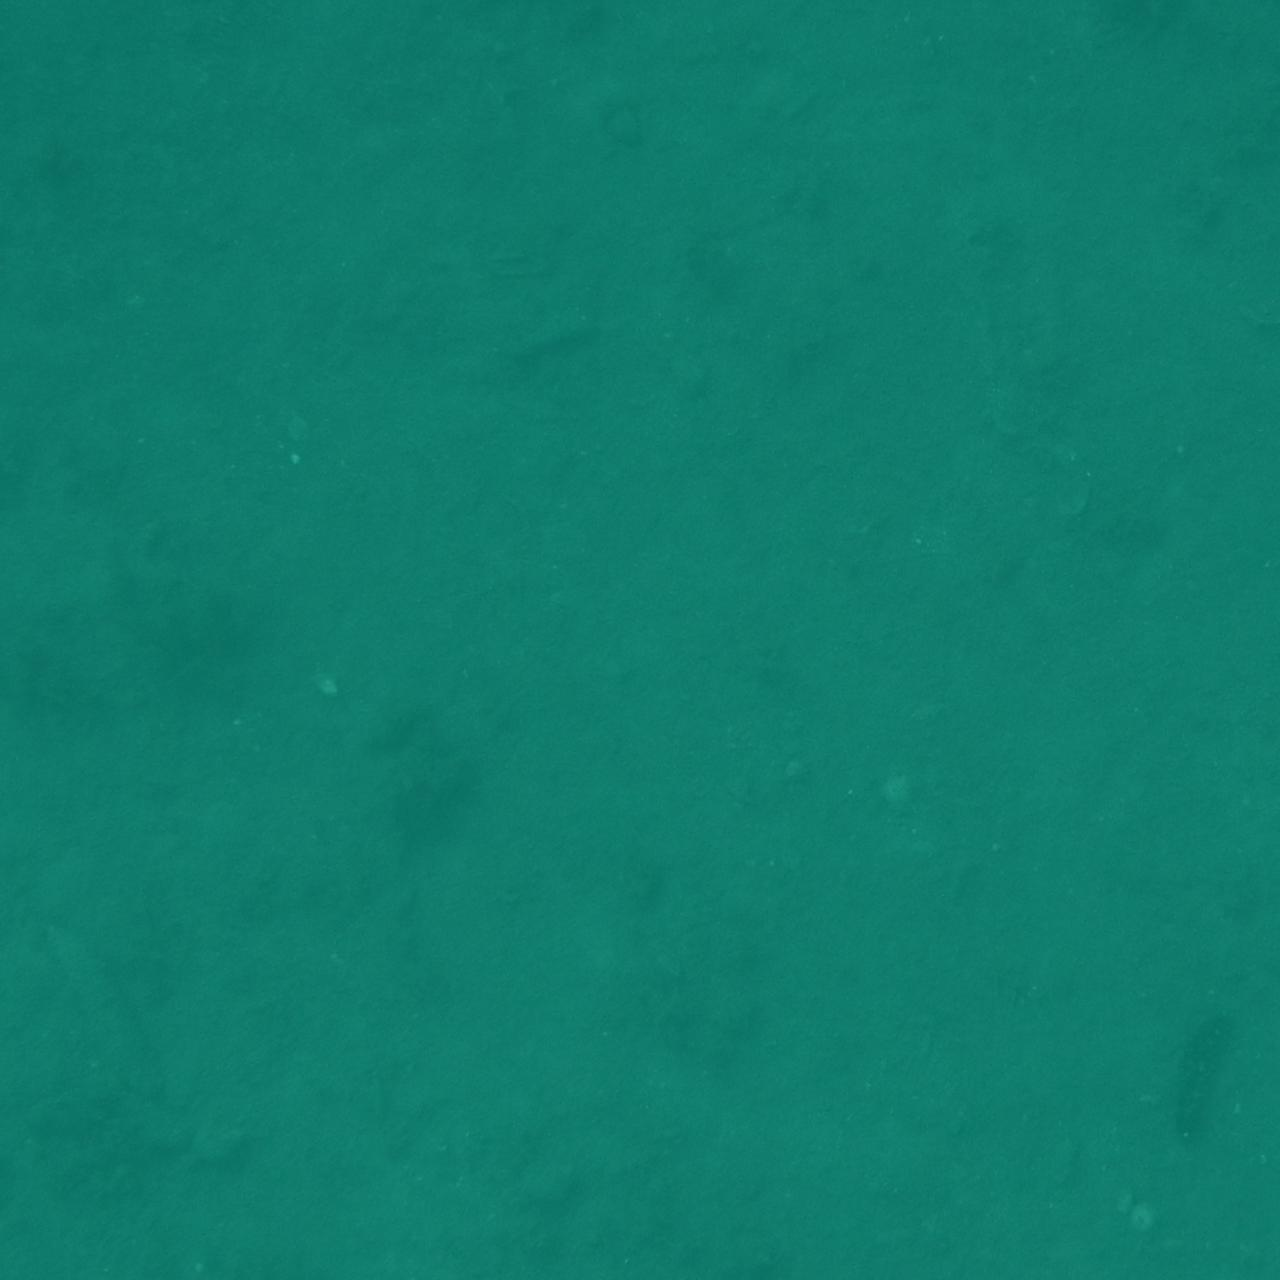Holothuria tubulosa: (42, 903, 259, 1201), (567, 1144, 775, 1280), (508, 1191, 804, 1280), (0, 212, 80, 463), (0, 478, 111, 658), (1167, 745, 1280, 918), (1148, 993, 1269, 1150), (607, 0, 819, 84), (1151, 321, 1280, 456), (949, 1159, 1090, 1280), (1141, 491, 1280, 607), (0, 1159, 123, 1280), (0, 0, 156, 94), (0, 701, 105, 837), (1058, 0, 1228, 80), (1207, 20, 1280, 204), (1194, 0, 1280, 138), (21, 1173, 129, 1280), (340, 1220, 529, 1280), (1157, 0, 1280, 89), (0, 0, 116, 94), (0, 0, 86, 116), (0, 1198, 116, 1280), (0, 0, 73, 116), (0, 847, 52, 986), (0, 0, 96, 60)
Rifiuto: (0, 1165, 132, 1280)
